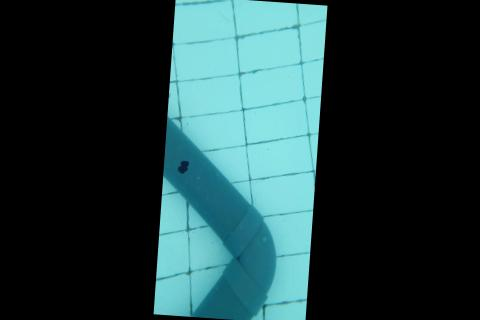kebocoran: (176, 159, 191, 176)
